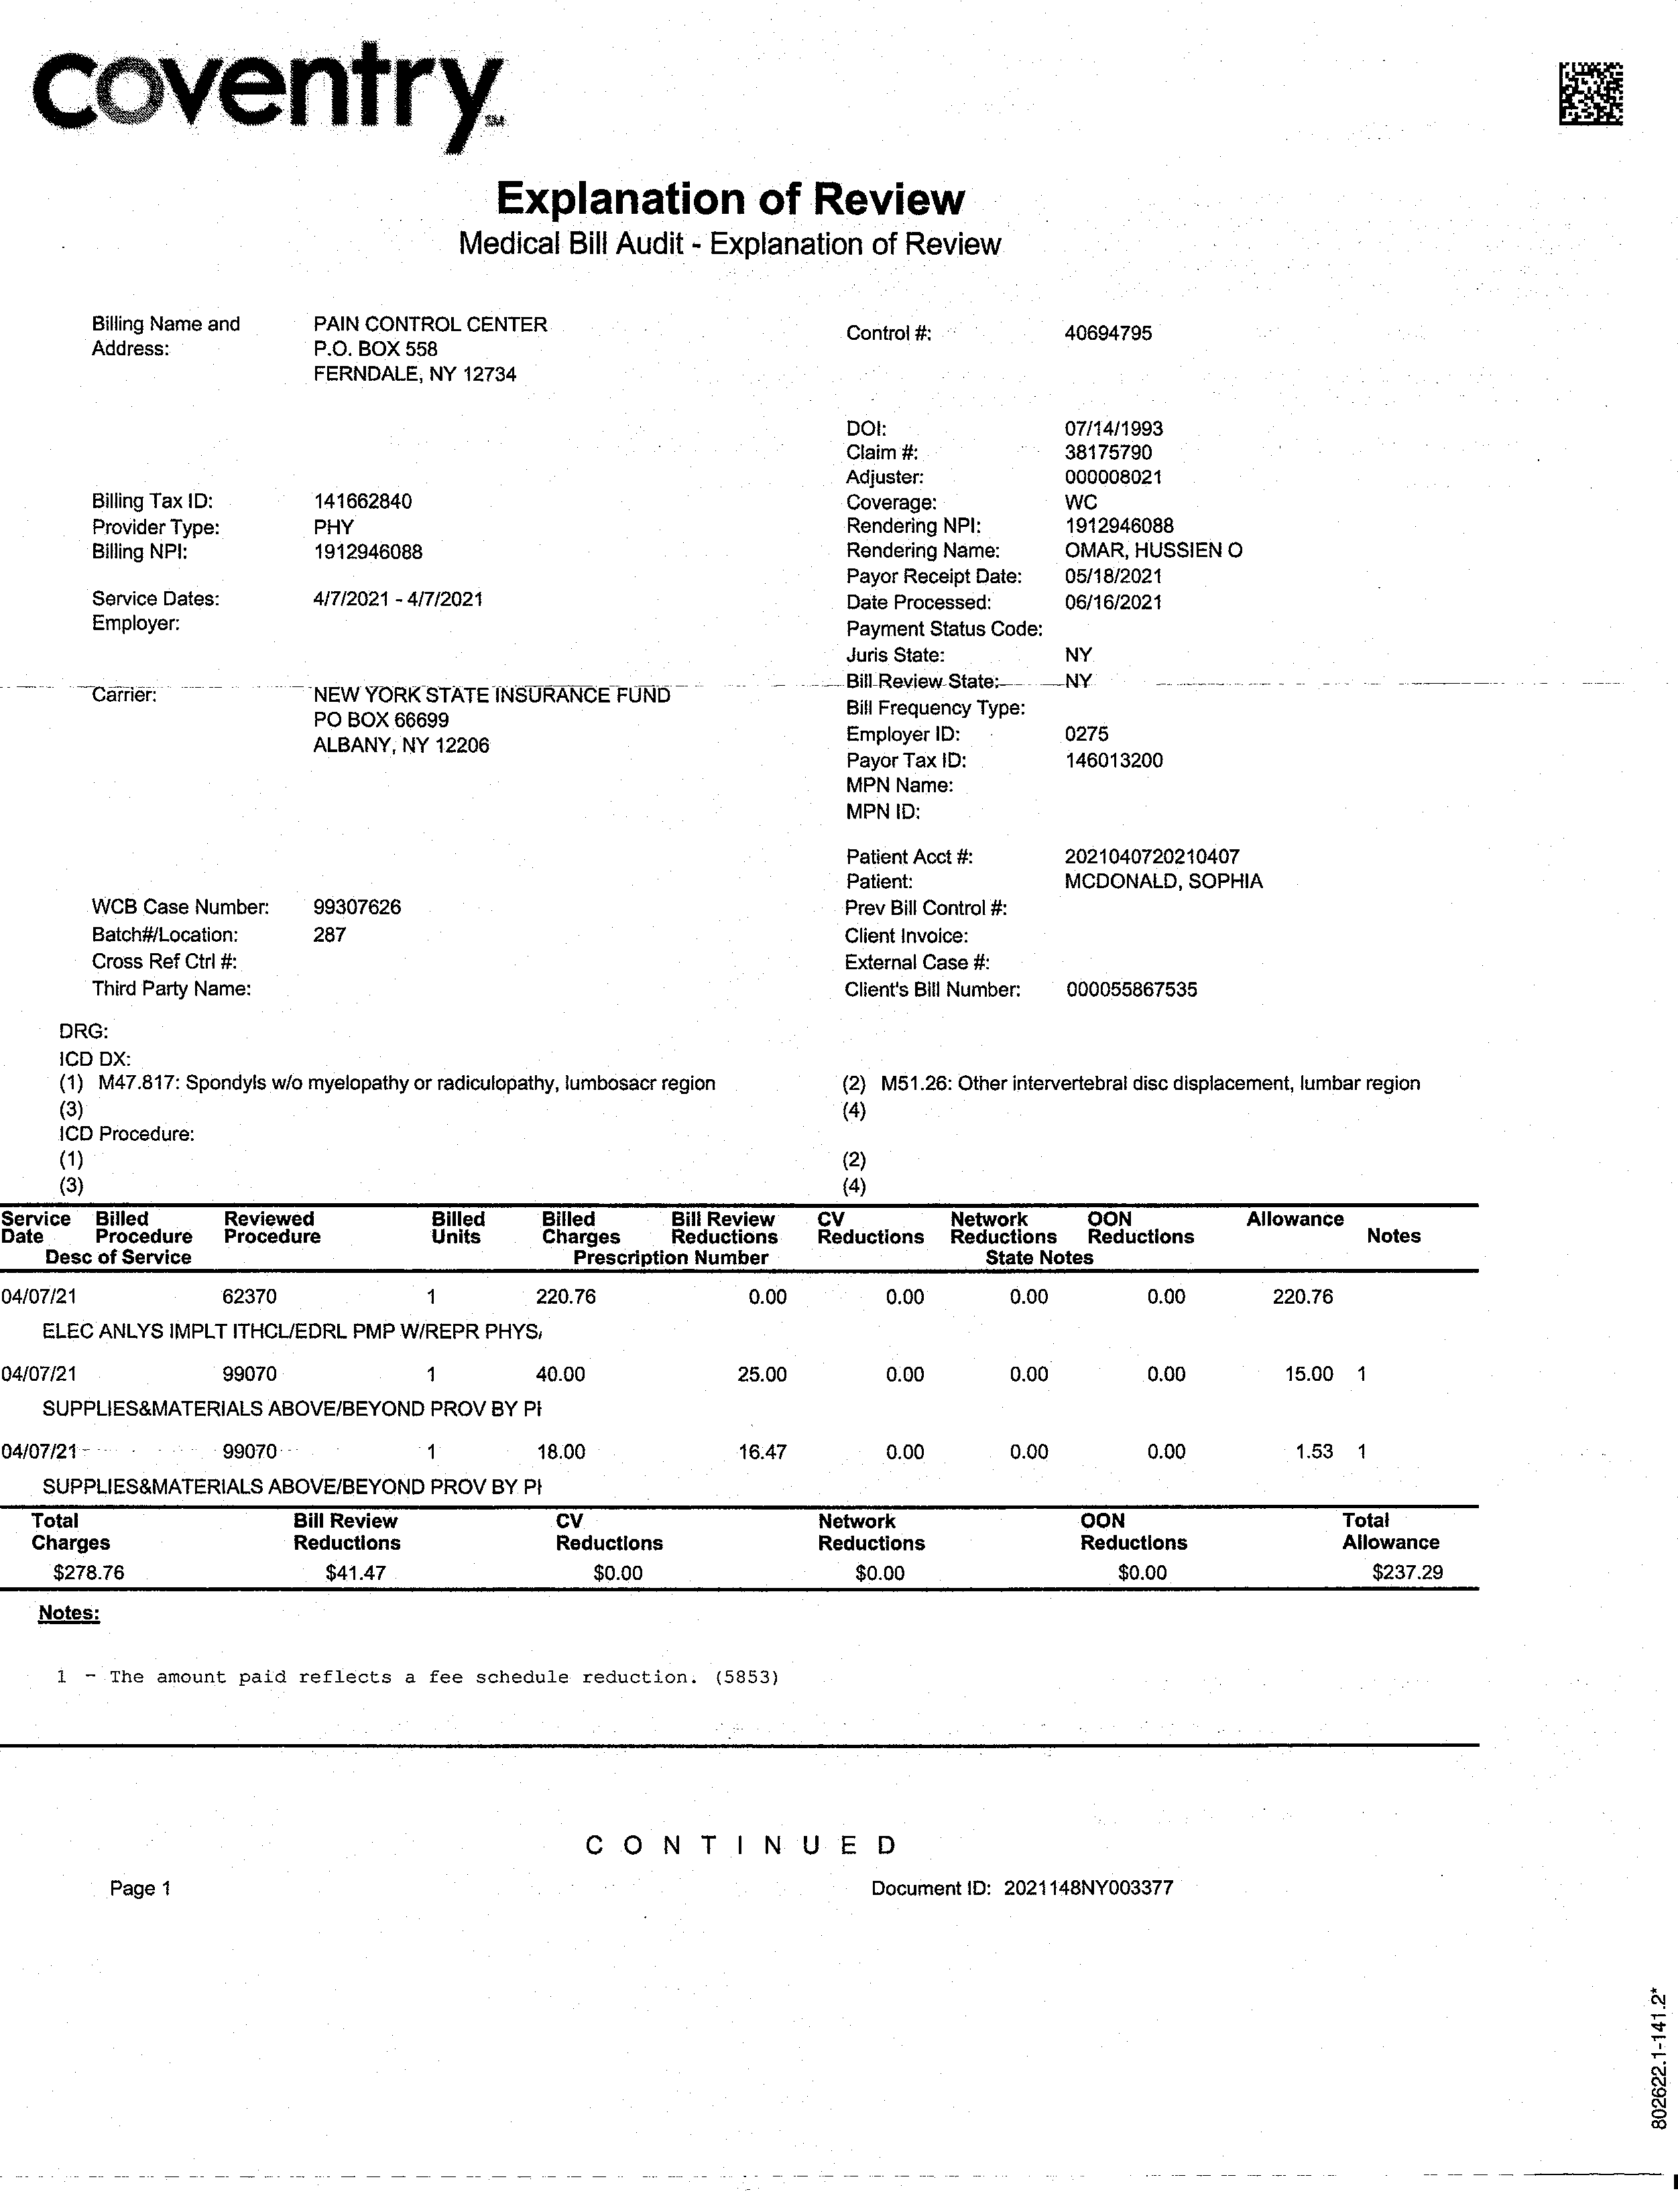data: (828, 397, 1251, 828), (830, 841, 1280, 1028), (74, 467, 520, 654), (85, 673, 684, 788), (76, 296, 561, 414), (828, 310, 1176, 377)
table: (2, 1193, 1498, 1502)
